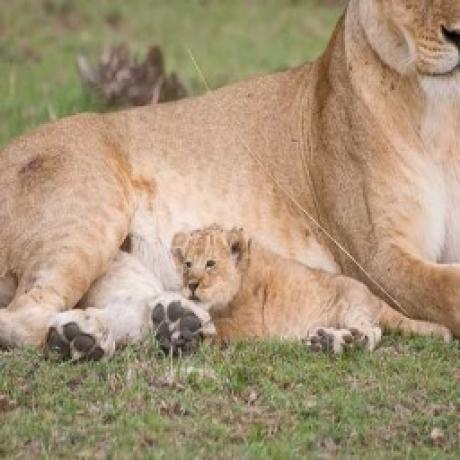Lion: (0, 0, 460, 359), (172, 223, 453, 347)
